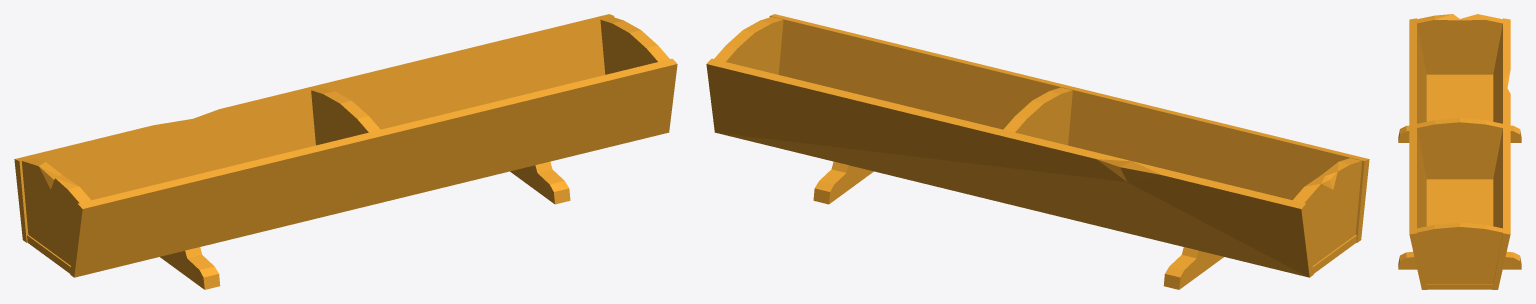
The model's file is SM_Trough_C.fbx.
The picture shows the model from 3 angles, left to right: view 1: azimuth 30°, elevation 25°; view 2: azimuth 150°, elevation 25°; view 3: azimuth 270°, elevation 25°; orthographic projection. The views are drawn at different scales.
Parts seen in each view (by area): view 1: trough-c; view 2: trough-c; view 3: trough-c.
Boxes of the visible parts, x1,y1,x2,y2 form: trough-c: [14, 14, 677, 289]; trough-c: [706, 14, 1369, 289]; trough-c: [1398, 14, 1521, 289].
Size of the model in its own units: 2 by 0.3621 by 0.4849.
